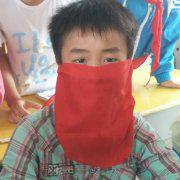OK: (65, 44, 126, 105)
